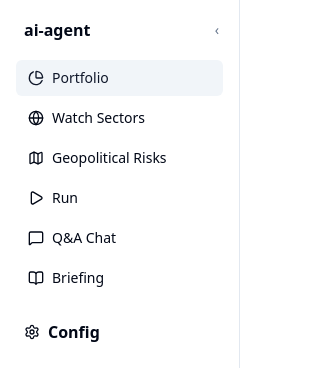
Test: Sidebar collapse › shows a resize handle when expanded and hides it when collapsed
Check: the element with test id "sidebar-resizer" is shown, box [227,0,239,368]
What coordinates should you click on to do the following:
click the button with test id "sidebar-toggle"
I would click on:
 (217, 30)
Its box is [211,16,223,44].
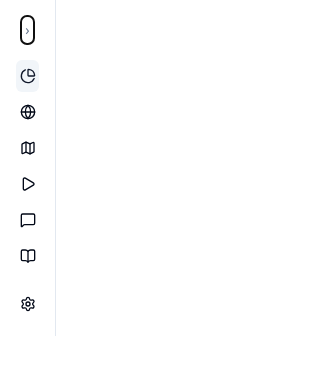
Check: the element with test id "sidebar-resizer" is gone
